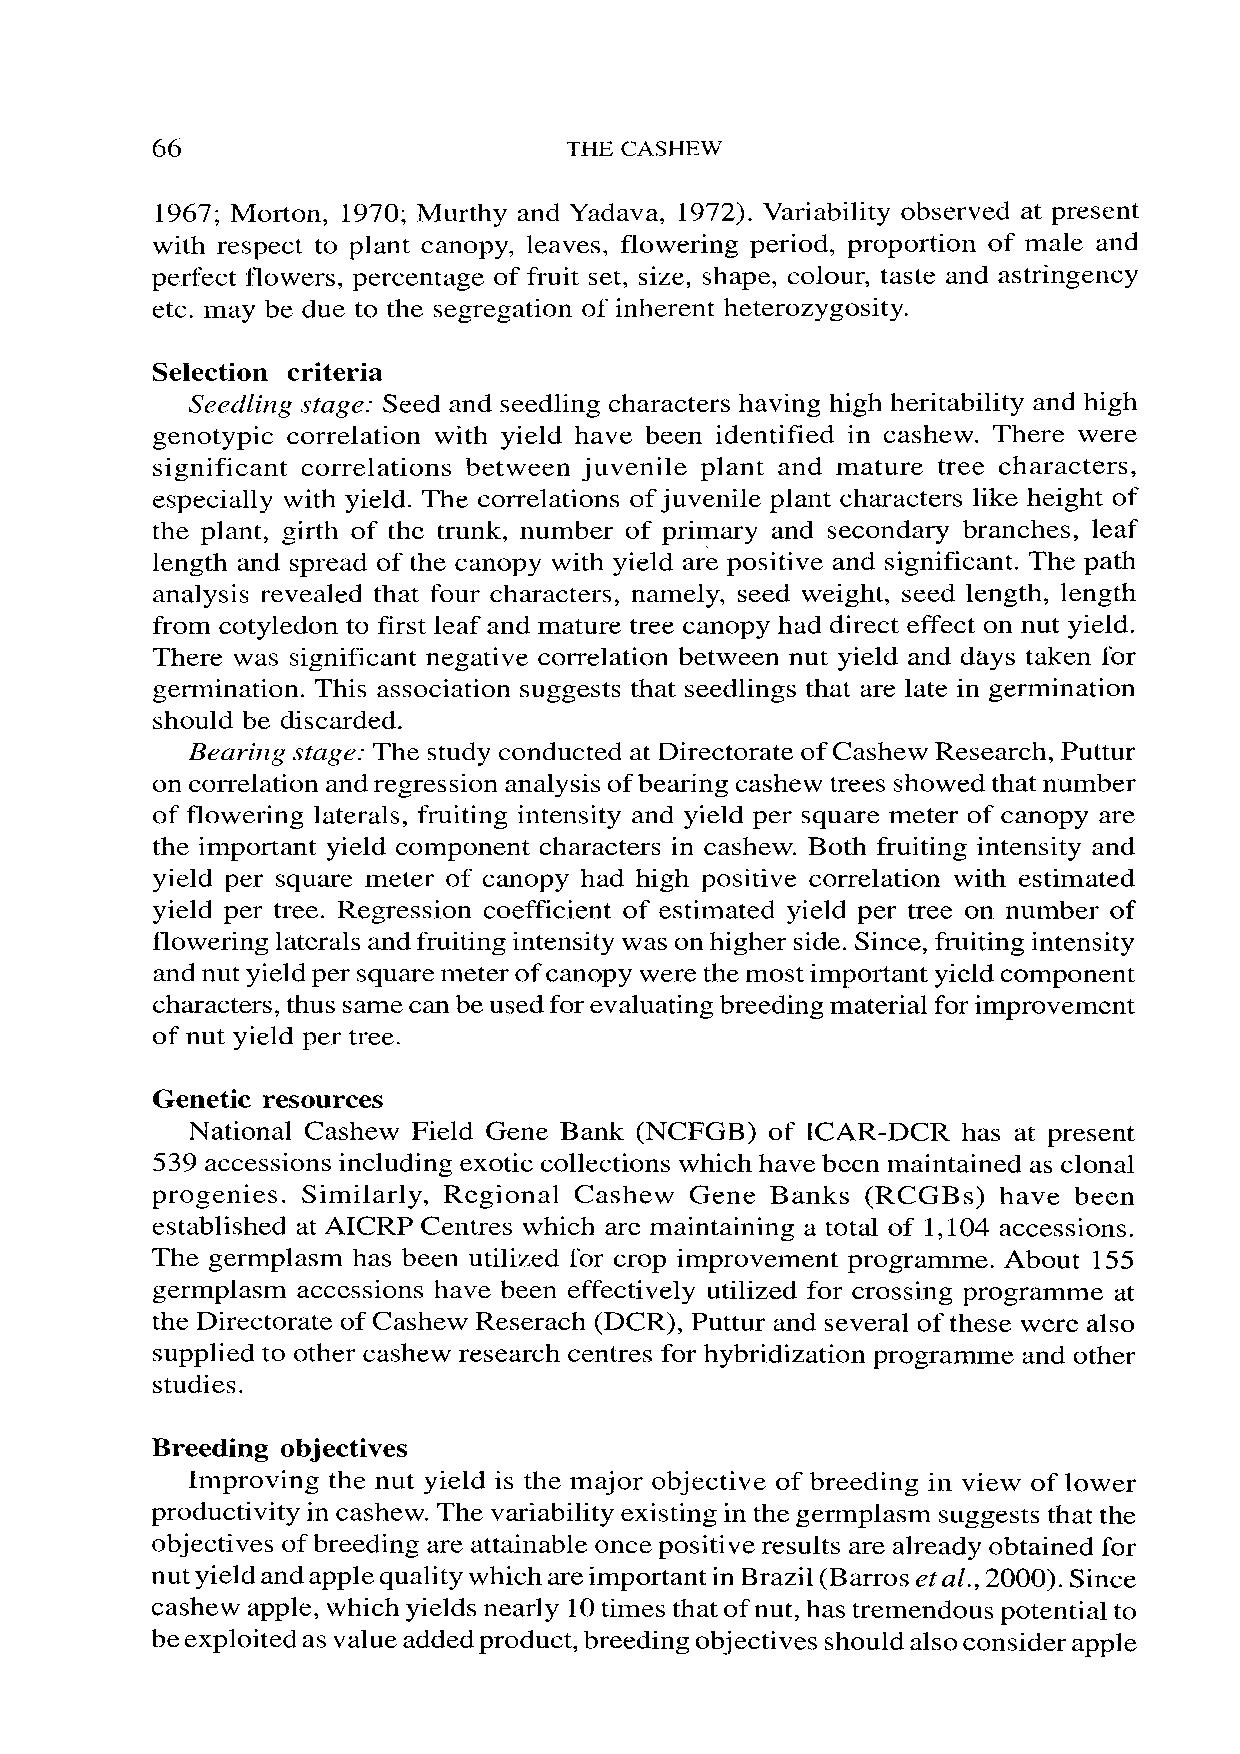chapter: (152, 1432, 411, 1464), (144, 358, 381, 385), (148, 1086, 385, 1110)
content: (148, 392, 1135, 1052), (146, 1118, 1138, 1398), (149, 1468, 1137, 1657), (152, 197, 1141, 323)
content_chapter: (560, 136, 725, 158)
content_pagenumber: (144, 129, 191, 162)
